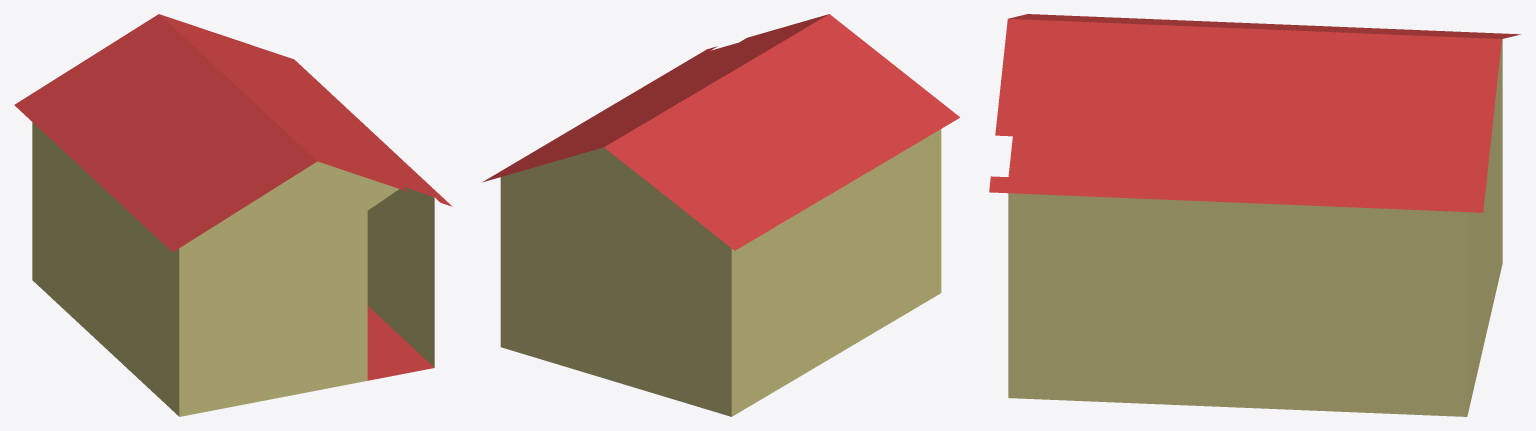
3 views of the same model, side by side, from view 1: azimuth 30°, elevation 25°; view 2: azimuth 150°, elevation 25°; view 3: azimuth 270°, elevation 25° (orthographic). The views are drawn at different scales.
Bounding box in the file's own units: 12.53 × 15 × 9.48.
